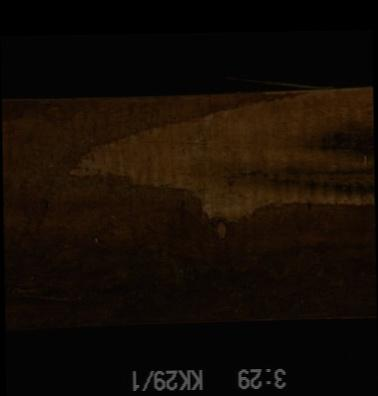wave: (2, 95, 373, 320)
